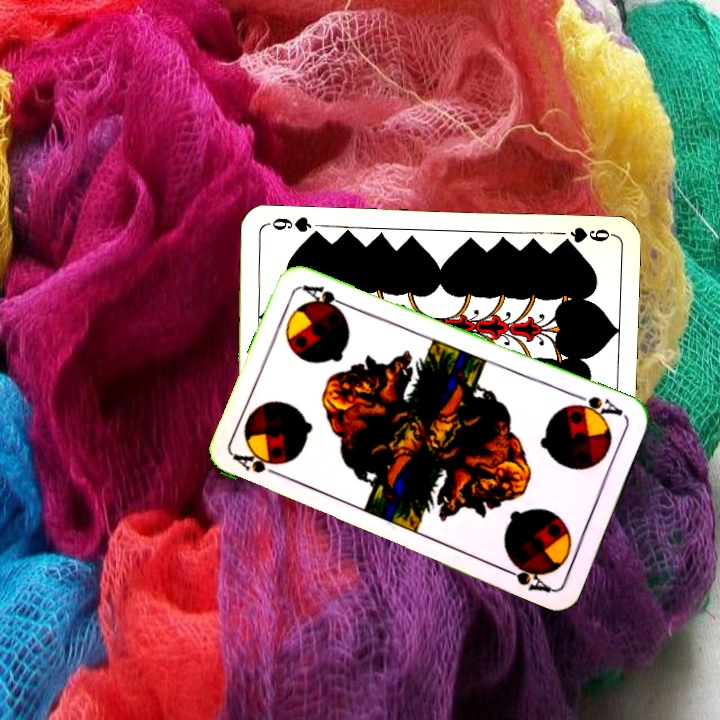G9: (555, 223, 615, 249)
SA: (566, 389, 626, 422), (230, 450, 287, 481)
